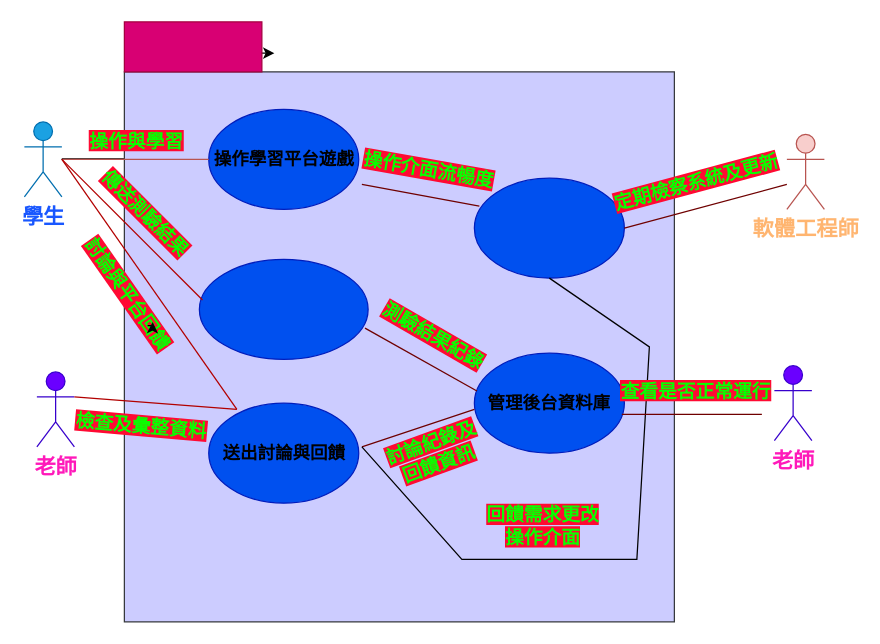
This 880x644 diagram has some shape labels left out. The centre of each missing label's shape, as x and y in pixels:
使用者成績資訊: point 283,308
數位學習平台APP: point 192,46
系統測試與更新: point 548,227
